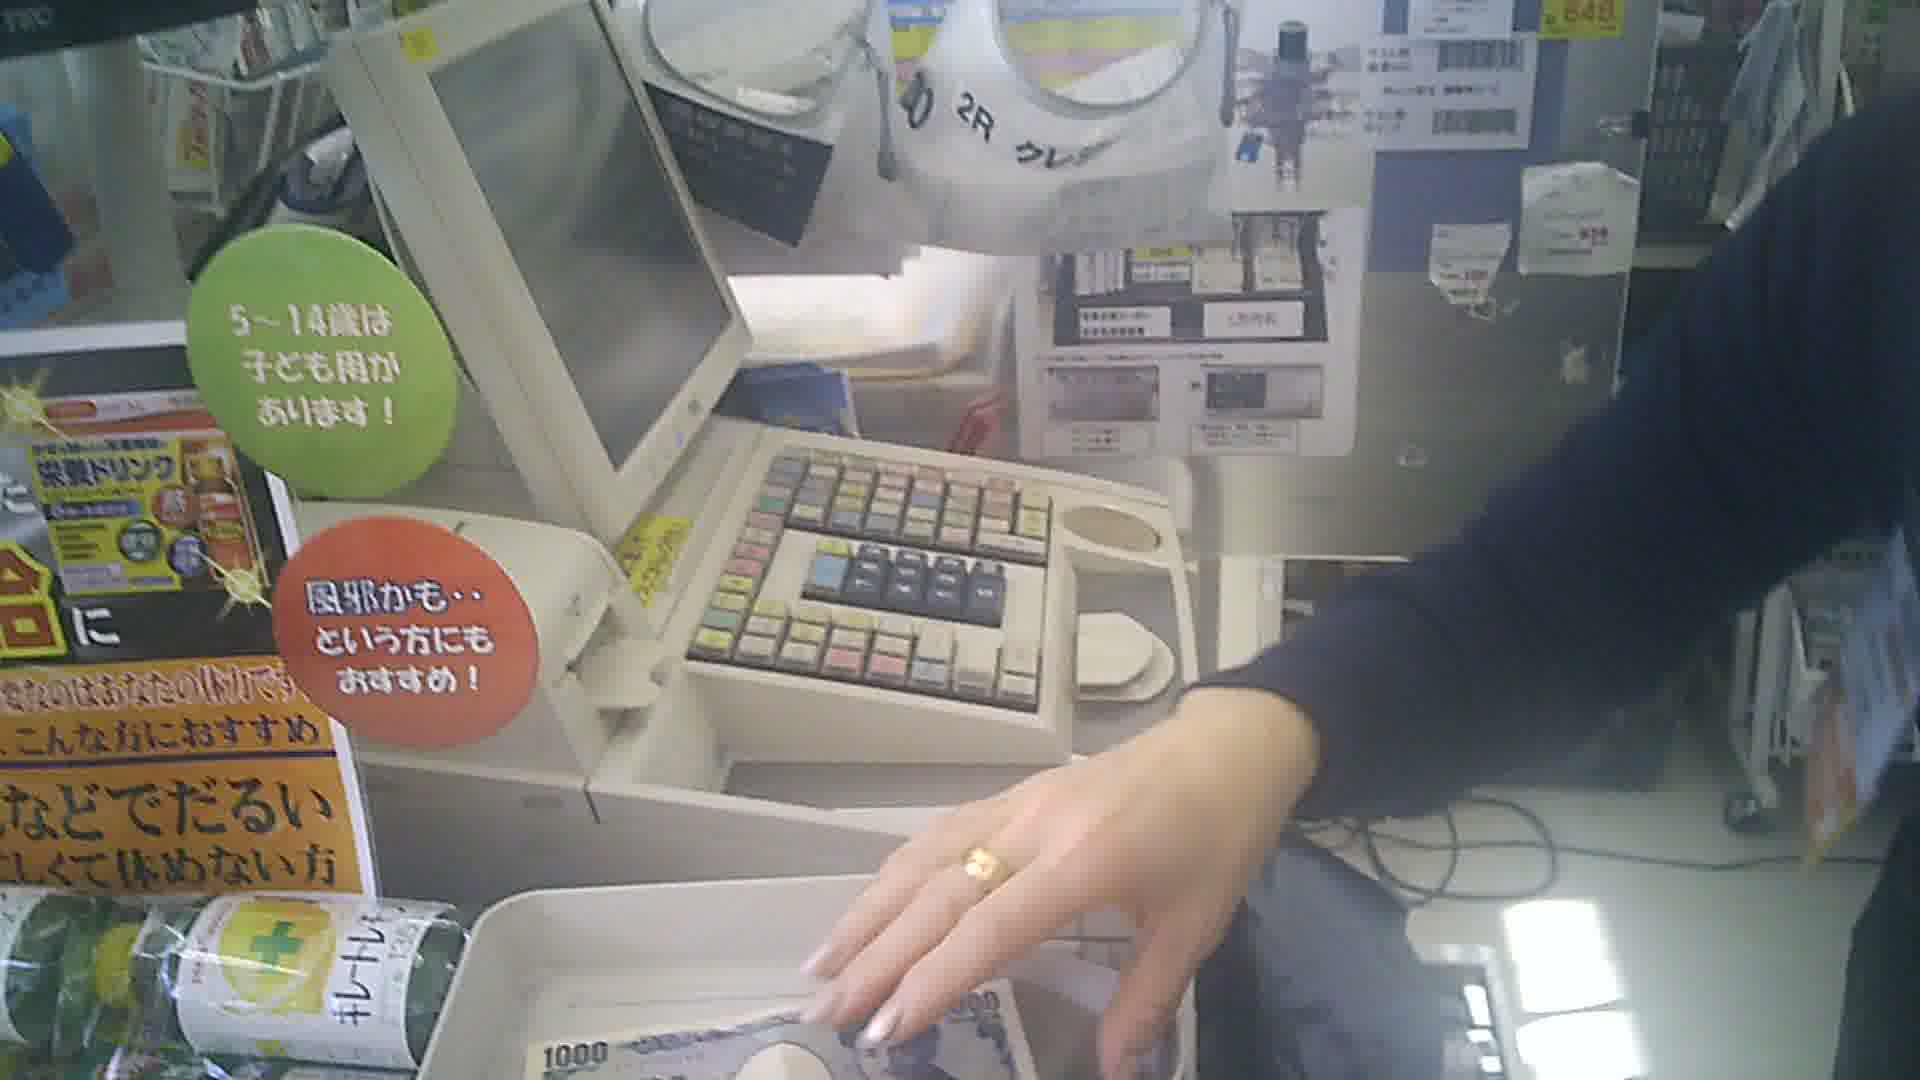1,000 Yen: (522, 986, 1104, 1077)
